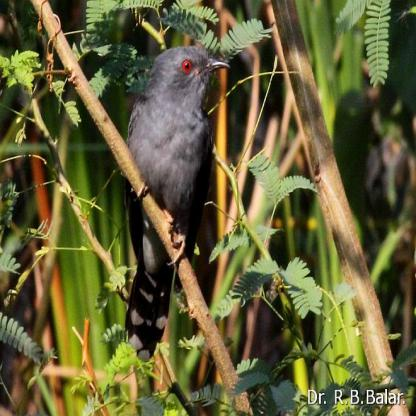Burung: (125, 46, 230, 363)
